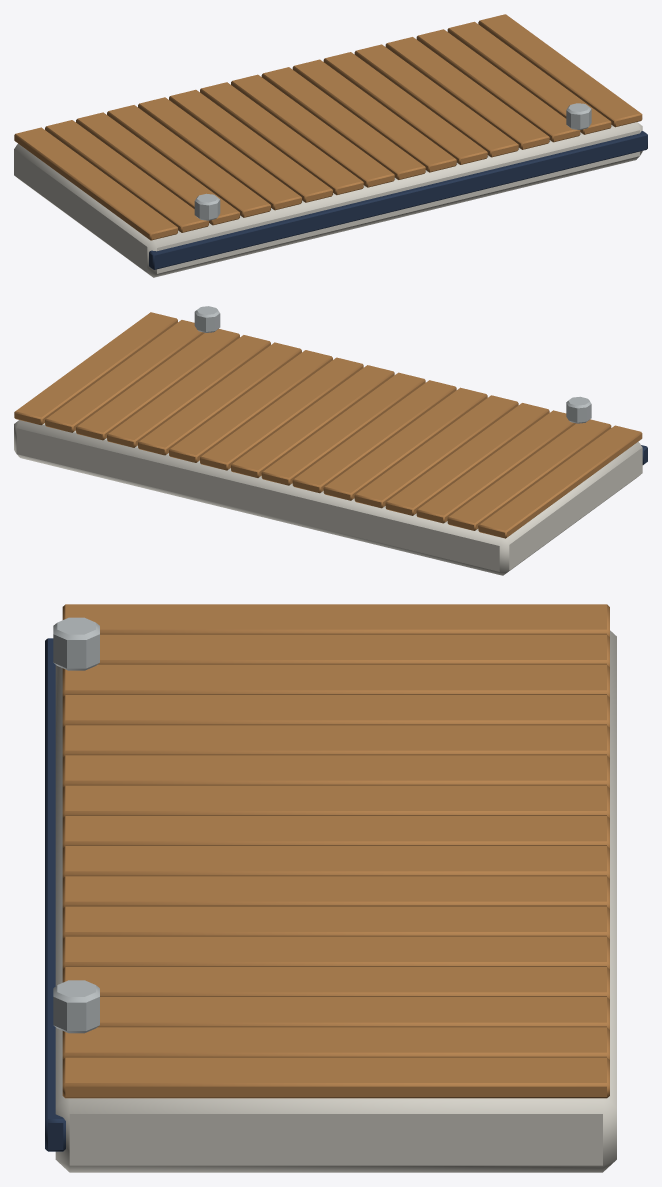
File: 148_ponton_modulaire.fbx
3 views of the same model, one above another, from view 1: azimuth 30°, elevation 25°; view 2: azimuth 150°, elevation 25°; view 3: azimuth 270°, elevation 25° (orthographic). The views are drawn at different scales.
Parts seen in each view (by area): view 1: Ponton; view 2: Ponton; view 3: Ponton.
Part boxes in pixels (x1=…): Ponton: x1=14, y1=14, x2=647, y2=277; Ponton: x1=14, y1=306, x2=647, y2=575; Ponton: x1=45, y1=604, x2=616, y2=1172.
Size of the model in its own units: 2.24 by 0.28 by 1.12.
Materials: 1 (1 with a texture image).
